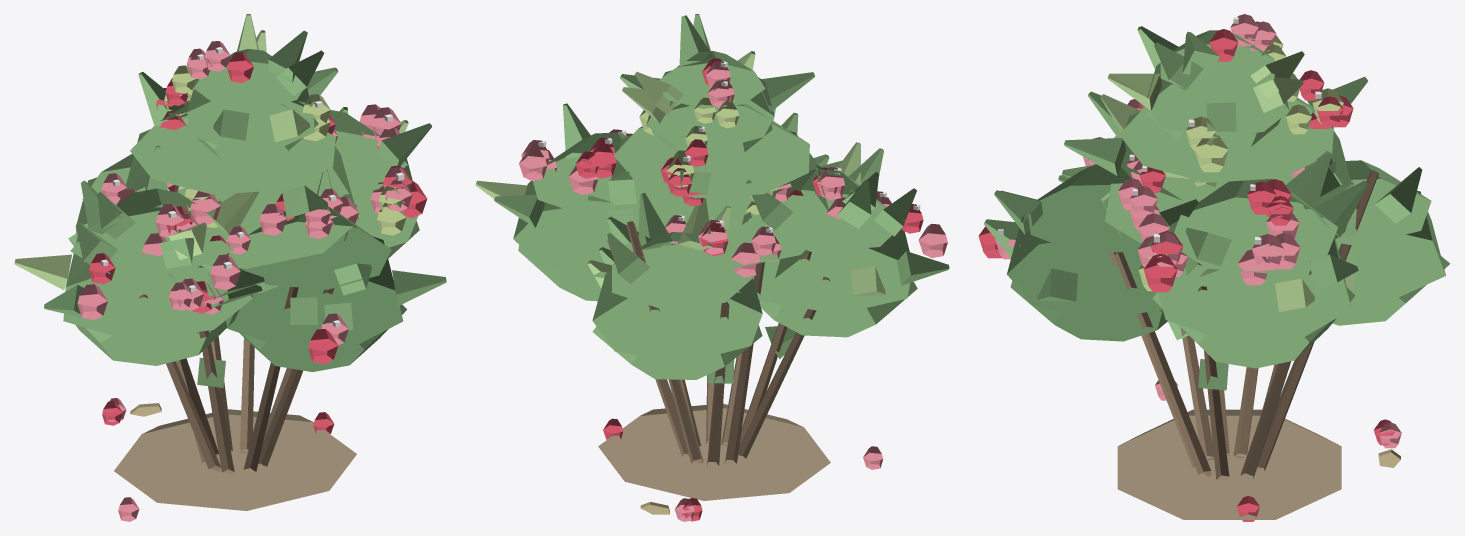
Rendered from berry_bush_4.glb.
3 views of the same model, side by side, from view 1: azimuth 30°, elevation 25°; view 2: azimuth 150°, elevation 25°; view 3: azimuth 270°, elevation 25° (orthographic). The views are drawn at different scales.
Visible parts, largest first — view 1: Mound, Leaves#3, Leaves#5, Leaves#11, Leaves#2, Leaves#6, Leaves#12, Leaves#17, Leaves#9, Leaves#18, Leaves#4, Leaves#10 (+30 smaller); view 2: Mound, Leaves#14, Leaves#3, Leaves#5, Leaves#6, Leaves#15, Leaves#2, Leaves#8, Leaves#9, Leaves#17, Leaves#4, Leaves#18 (+28 smaller); view 3: Mound, Leaves#8, Leaves#3, Leaves#11, Leaves#9, Leaves#12, Leaves#14, Leaves#17, Leaves#15, Leaves#2, Leaves#7, Leaves#18 (+30 smaller).
Boxes of the visible parts, x1,y1,x2,y2 form: Mound: [114, 409, 356, 510]; Leaves#3: [130, 95, 335, 194]; Leaves#5: [63, 228, 253, 340]; Leaves#11: [226, 236, 403, 348]; Leaves#2: [126, 129, 358, 268]; Leaves#6: [70, 188, 233, 273]; Leaves#12: [241, 206, 391, 289]; Leaves#17: [187, 78, 314, 149]; Leaves#9: [271, 110, 407, 196]; Leaves#18: [193, 49, 305, 109]; Leaves#4: [75, 309, 239, 365]; Leaves#10: [240, 304, 406, 372]; Mound: [598, 404, 830, 500]; Leaves#14: [592, 270, 762, 362]; Leaves#3: [613, 103, 809, 198]; Leaves#5: [742, 212, 910, 313]; Leaves#6: [751, 169, 905, 252]; Leaves#15: [612, 232, 753, 309]; Leaves#2: [600, 131, 828, 269]; Leaves#8: [513, 181, 610, 278]; Leaves#9: [533, 133, 682, 216]; Leaves#17: [646, 70, 774, 148]; Leaves#4: [759, 281, 917, 337]; Leaves#18: [659, 51, 765, 108]; Mound: [1117, 409, 1341, 519]; Leaves#8: [1158, 220, 1351, 341]; Leaves#3: [1119, 97, 1333, 182]; Leaves#11: [1007, 215, 1162, 318]; Leaves#9: [1174, 178, 1337, 273]; Leaves#12: [1028, 164, 1182, 253]; Leaves#14: [1336, 191, 1445, 302]; Leaves#17: [1147, 63, 1289, 138]; Leaves#15: [1329, 160, 1431, 245]; Leaves#2: [1105, 111, 1350, 243]; Leaves#7: [1152, 287, 1355, 368]; Leaves#18: [1160, 30, 1274, 92].
Bounding box in the file's own units: 2.18 × 2.11 × 1.95.
